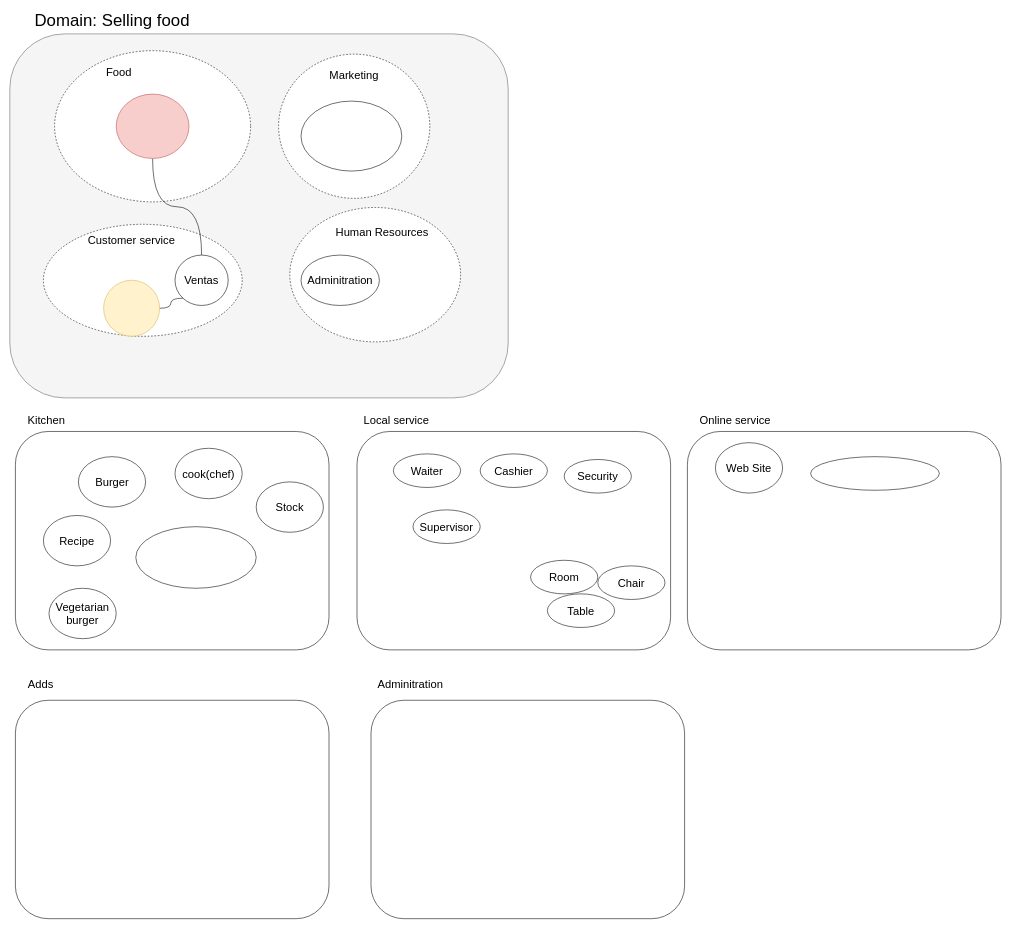
This 1011x928 diagram has some shape labels left out. Each missing label, with the box of its shape:
Advertisement: (300, 101, 402, 171)
chef's assistant: (135, 526, 256, 588)
Entrega: (103, 280, 160, 336)
Kitchen core: (116, 94, 189, 158)
Social Manager: (810, 456, 939, 490)
